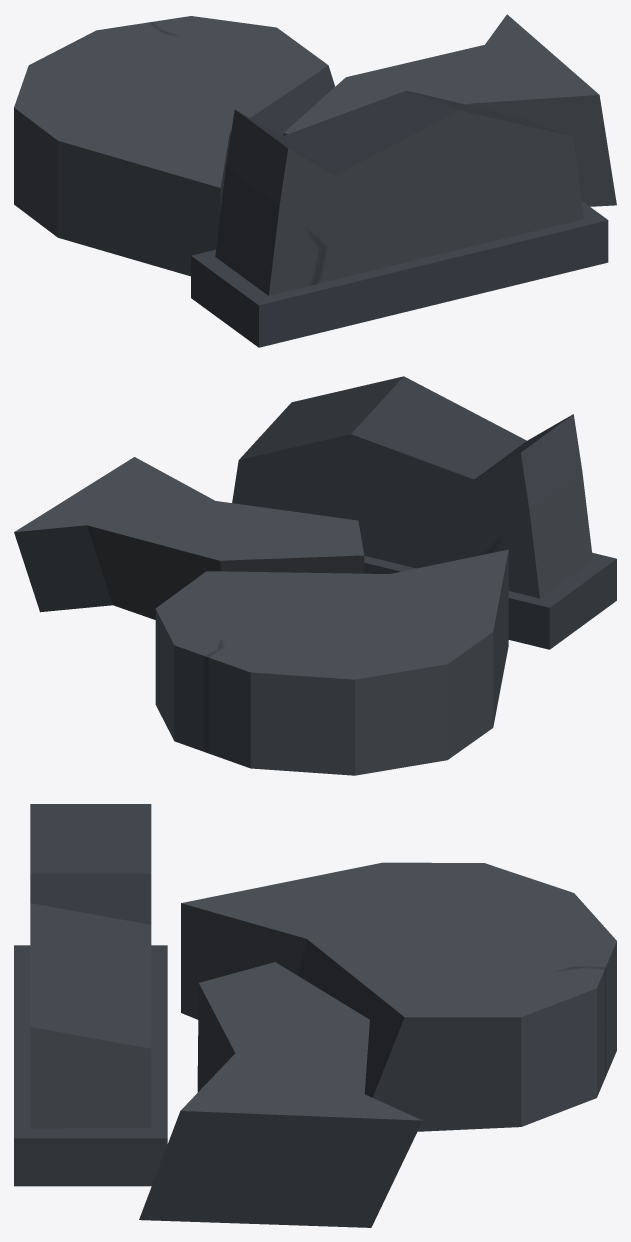
The model's file is Tombstone 01.fbx.
3 renders of one model, top to bottom at view 1: azimuth 30°, elevation 25°; view 2: azimuth 150°, elevation 25°; view 3: azimuth 270°, elevation 25°, orthographic. The views are drawn at different scales.
Parts seen in each view (by area): view 1: Tombstone_01; view 2: Tombstone_01; view 3: Tombstone_01.
Part boxes in pixels (box(x1,y1,x2,y2)): Tombstone_01: box(14, 14, 616, 347); Tombstone_01: box(14, 376, 616, 775); Tombstone_01: box(14, 804, 616, 1227).
Bounding box in the file's own units: 76.35 × 29.09 × 75.49.
